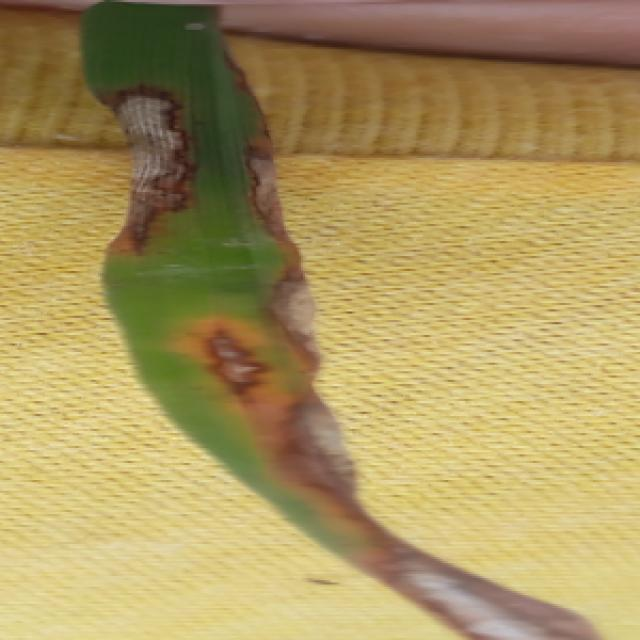Brown_Spot: (264, 390, 598, 640), (109, 77, 196, 260), (190, 317, 270, 405), (269, 263, 317, 366), (242, 149, 292, 240)
